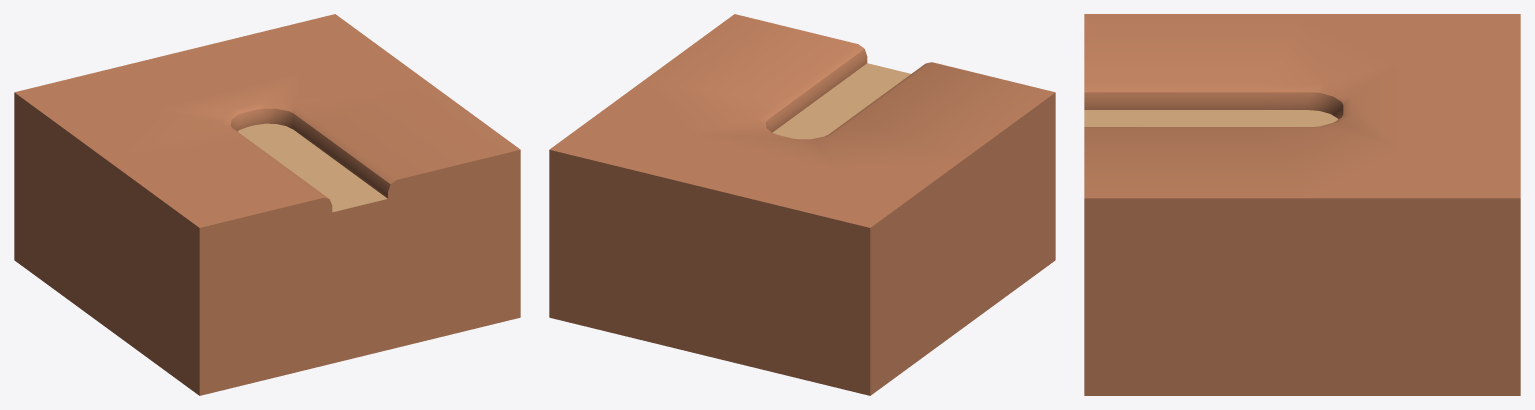
File: square_rock_roadA.glb
3 views of the same model, side by side, from view 1: azimuth 30°, elevation 25°; view 2: azimuth 150°, elevation 25°; view 3: azimuth 270°, elevation 25° (orthographic). The views are drawn at different scales.
Parts seen in each view (by area): view 1: square_rock_roadA; view 2: square_rock_roadA; view 3: square_rock_roadA.
Boxes of the visible parts, x1,y1,x2,y2 form: square_rock_roadA: (14, 14, 520, 395); square_rock_roadA: (549, 14, 1055, 395); square_rock_roadA: (1084, 14, 1520, 395).
Bounding box in the file's own units: 2 × 1 × 2.
